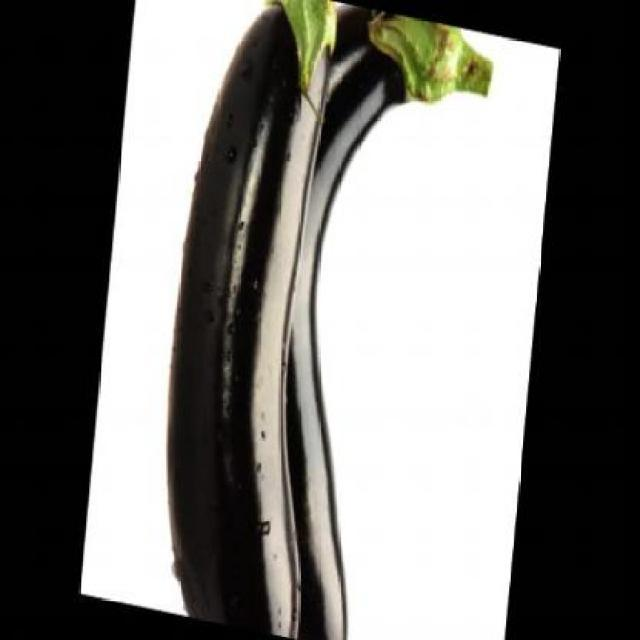eggplant: (262, 0, 497, 638), (148, 0, 357, 638)
